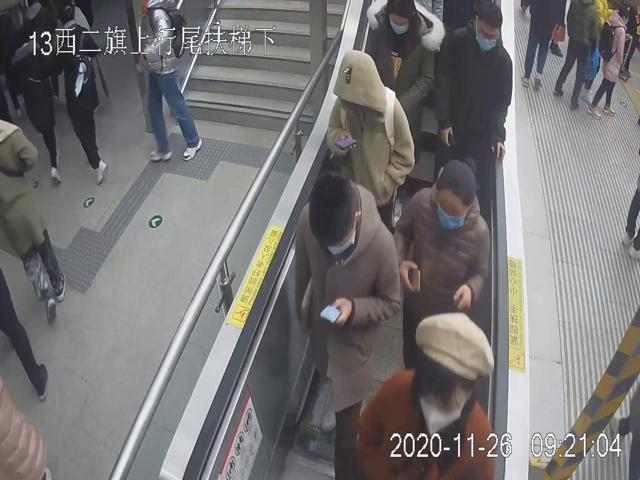person: (295, 173, 402, 480), (325, 48, 416, 232), (393, 158, 492, 323), (434, 2, 514, 183), (359, 0, 445, 161)
